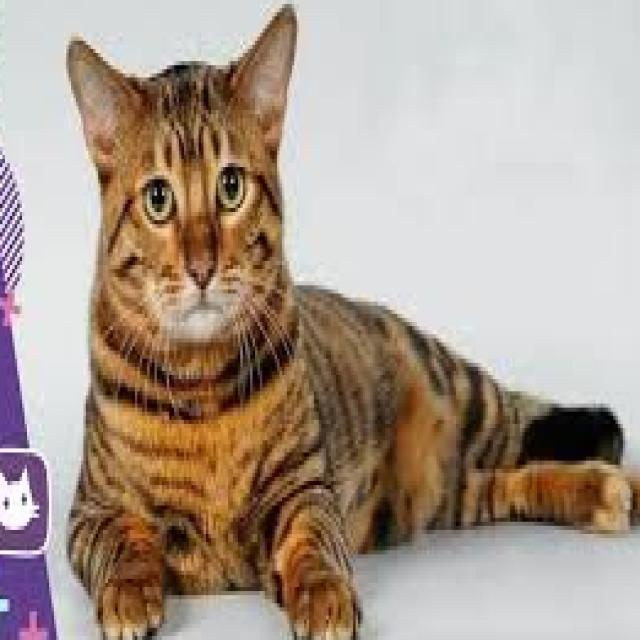Toyger: (61, 0, 640, 640)
